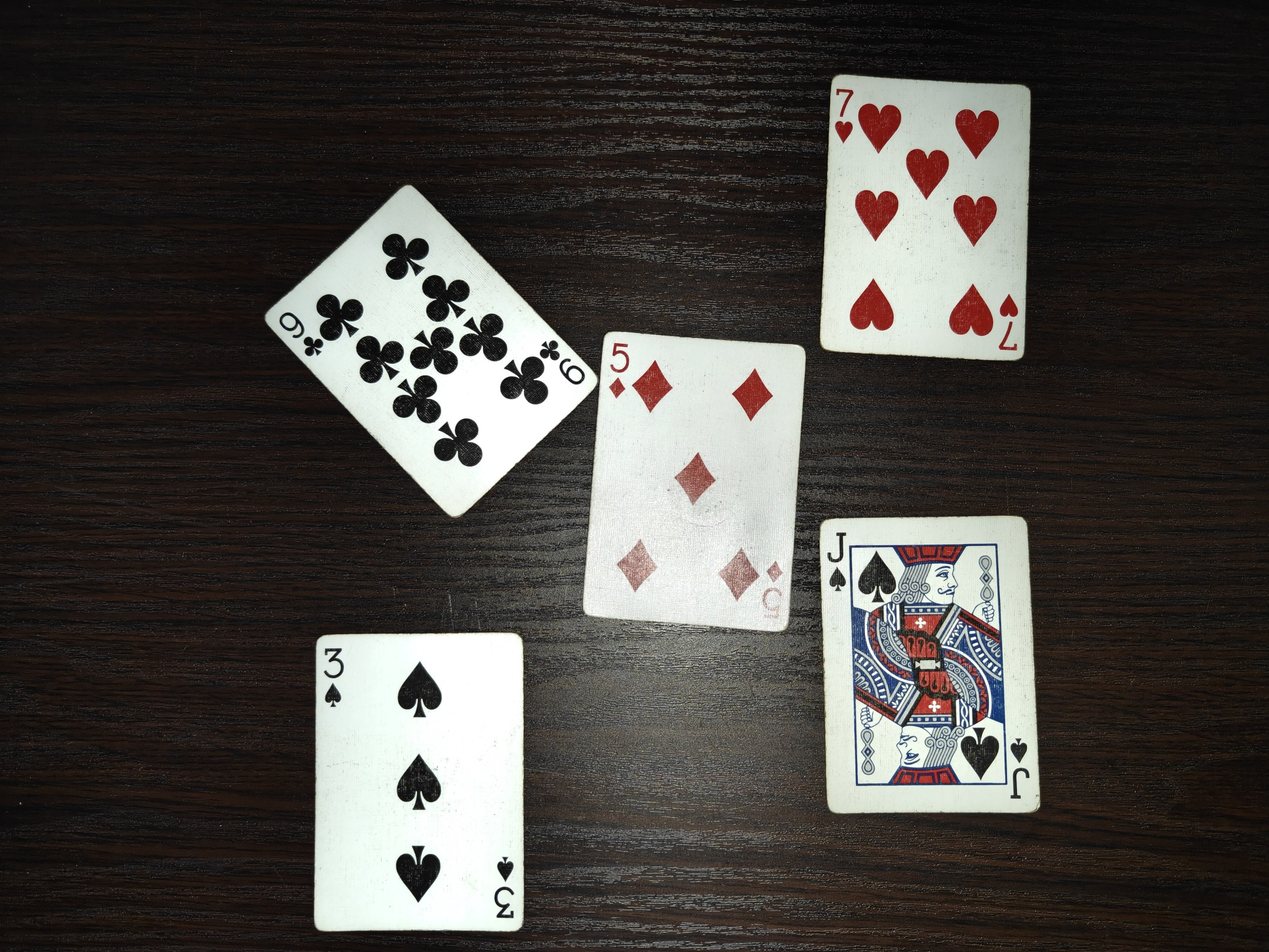3S: (311, 629, 529, 934)
5D: (582, 325, 809, 635)
7H: (821, 72, 1032, 363)
9C: (264, 183, 596, 518)
JS: (817, 513, 1041, 816)
